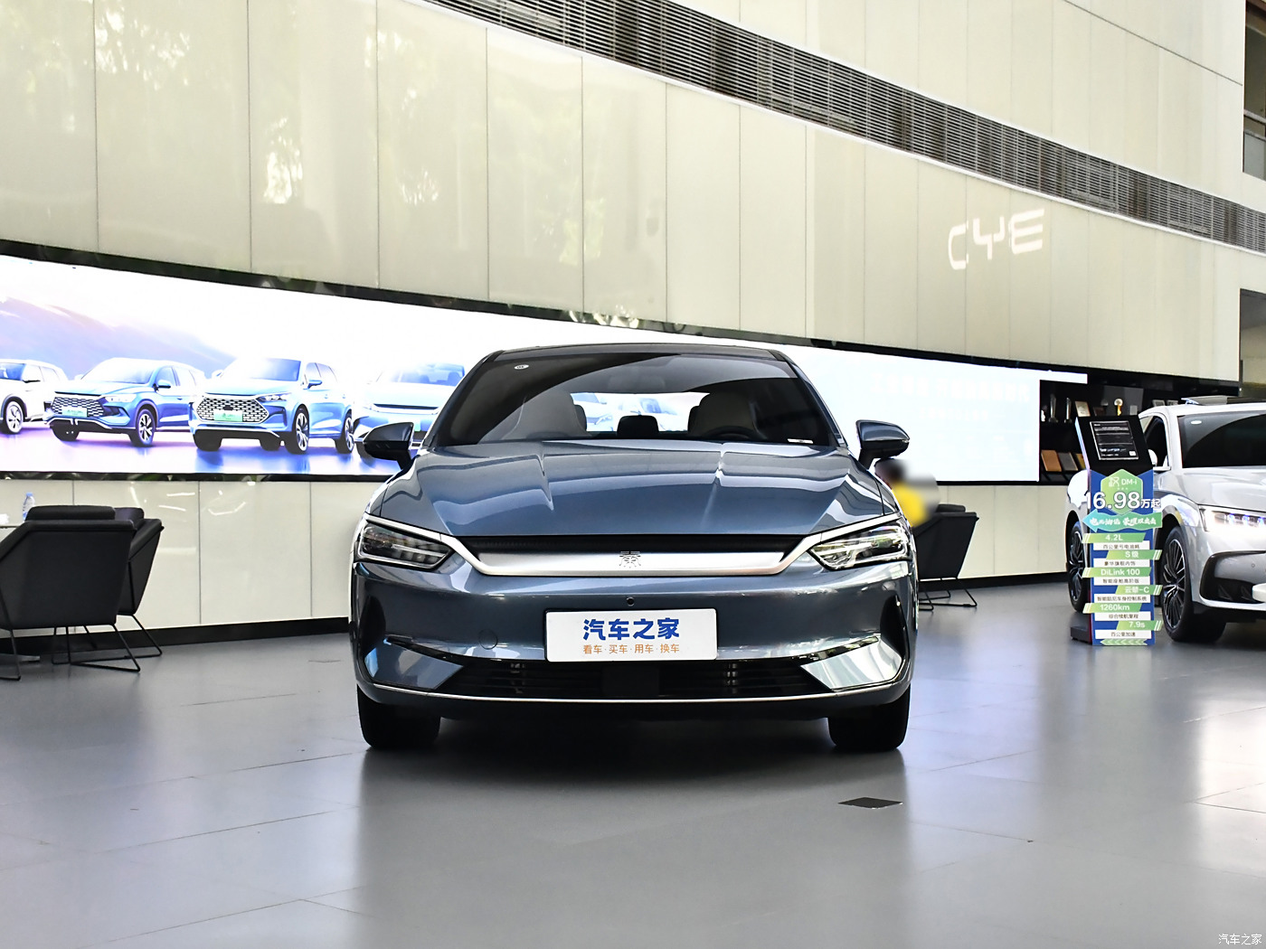BYD Qin: (619, 550, 641, 568)
